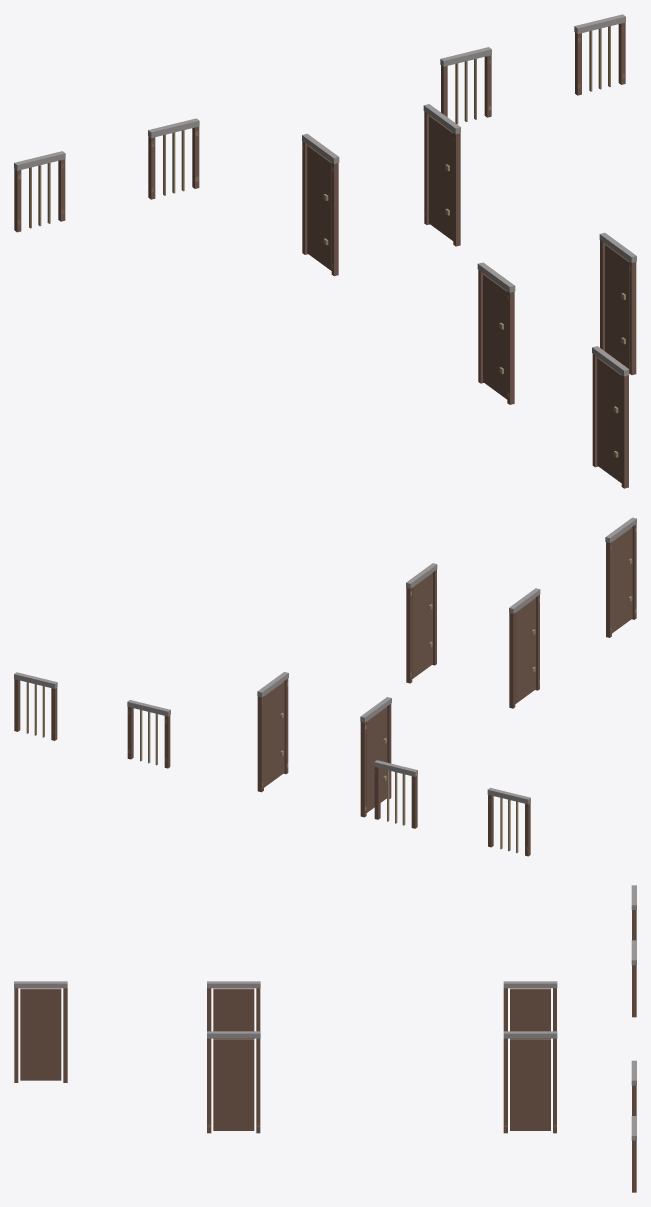
The model's file is door_window_floor_03.glb.
The picture shows the model from 3 angles, top to bottom: view 1: azimuth 30°, elevation 25°; view 2: azimuth 150°, elevation 25°; view 3: azimuth 270°, elevation 25°; orthographic projection. The views are drawn at different scales.
Visible parts, largest first — view 1: fe-f3-room1-door-0-door-leaf, fe-f3-room3-door-0-door-leaf, fe-f3-hall-door-4-door-leaf, fe-f3-room2-door-0-door-leaf, fe-f3-room4-door-0-door-leaf, fe-f3-room2-door-0-carved-jamb-1, fe-f3-hall-door-4-carved-jamb-1, fe-f3-room4-door-0-carved-jamb-1, fe-f3-room1-door-0-carved-jamb-1, fe-f3-room3-door-0-carved-jamb-1, fe-f3-room1-door-0-carved-jamb--1, fe-f3-hall-door-4-carved-jamb--1; view 2: fe-f3-hall-door-4-door-leaf, fe-f3-room2-door-0-door-leaf, fe-f3-room3-door-0-door-leaf, fe-f3-room4-door-0-door-leaf, fe-f3-room1-door-0-door-leaf, fe-f3-room3-door-0-carved-jamb--1, fe-f3-room2-door-0-carved-jamb--1, fe-f3-room4-door-0-carved-jamb--1, fe-f3-room1-door-0-carved-jamb--1, fe-f3-hall-door-4-carved-jamb--1; view 3: fe-f3-hall-door-4-door-leaf, fe-f3-room4-door-0-door-leaf, fe-f3-room2-door-0-door-leaf, fe-f3-room3-door-0-door-leaf, fe-f3-room1-door-0-door-leaf, fe-f3-room2-door-0-carved-jamb-1, fe-f3-room4-door-0-carved-jamb--1, fe-f3-room4-door-0-carved-jamb-1, fe-f3-hall-door-4-carved-jamb--1, fe-f3-hall-door-4-carved-jamb-1, fe-f3-room2-door-0-header, fe-f3-room1-door-0-header.
Boxes of the visible parts, x1=… form: fe-f3-room1-door-0-door-leaf: x1=307, y1=145, x2=331, y2=270; fe-f3-room3-door-0-door-leaf: x1=483, y1=274, x2=507, y2=399; fe-f3-hall-door-4-door-leaf: x1=597, y1=357, x2=621, y2=482; fe-f3-room2-door-0-door-leaf: x1=429, y1=115, x2=453, y2=240; fe-f3-room4-door-0-door-leaf: x1=605, y1=244, x2=629, y2=368; fe-f3-room2-door-0-carved-jamb-1: x1=453, y1=133, x2=460, y2=246; fe-f3-hall-door-4-carved-jamb-1: x1=621, y1=375, x2=628, y2=488; fe-f3-room4-door-0-carved-jamb-1: x1=629, y1=262, x2=636, y2=374; fe-f3-room1-door-0-carved-jamb-1: x1=331, y1=163, x2=338, y2=276; fe-f3-room3-door-0-carved-jamb-1: x1=507, y1=291, x2=514, y2=404; fe-f3-room1-door-0-carved-jamb--1: x1=302, y1=141, x2=307, y2=254; fe-f3-hall-door-4-carved-jamb--1: x1=592, y1=354, x2=597, y2=467; fe-f3-hall-door-4-door-leaf: x1=612, y1=527, x2=632, y2=633; fe-f3-room2-door-0-door-leaf: x1=264, y1=681, x2=284, y2=787; fe-f3-room3-door-0-door-leaf: x1=515, y1=598, x2=535, y2=703; fe-f3-room4-door-0-door-leaf: x1=412, y1=573, x2=432, y2=678; fe-f3-room1-door-0-door-leaf: x1=366, y1=707, x2=387, y2=812; fe-f3-room3-door-0-carved-jamb--1: x1=509, y1=613, x2=515, y2=708; fe-f3-room2-door-0-carved-jamb--1: x1=257, y1=696, x2=263, y2=792; fe-f3-room4-door-0-carved-jamb--1: x1=406, y1=588, x2=412, y2=683; fe-f3-room1-door-0-carved-jamb--1: x1=360, y1=721, x2=366, y2=817; fe-f3-hall-door-4-carved-jamb--1: x1=606, y1=542, x2=611, y2=637; fe-f3-hall-door-4-door-leaf: x1=20, y1=988, x2=61, y2=1080; fe-f3-room4-door-0-door-leaf: x1=213, y1=1039, x2=254, y2=1130; fe-f3-room2-door-0-door-leaf: x1=510, y1=1039, x2=550, y2=1130; fe-f3-room3-door-0-door-leaf: x1=213, y1=988, x2=254, y2=1038; fe-f3-room1-door-0-door-leaf: x1=510, y1=988, x2=550, y2=1038; fe-f3-room2-door-0-carved-jamb-1: x1=503, y1=1038, x2=507, y2=1133; fe-f3-room4-door-0-carved-jamb--1: x1=256, y1=1038, x2=260, y2=1133; fe-f3-room4-door-0-carved-jamb-1: x1=207, y1=1038, x2=211, y2=1133; fe-f3-hall-door-4-carved-jamb--1: x1=63, y1=988, x2=67, y2=1082; fe-f3-hall-door-4-carved-jamb-1: x1=14, y1=988, x2=18, y2=1082; fe-f3-room2-door-0-header: x1=503, y1=1031, x2=557, y2=1038; fe-f3-room1-door-0-header: x1=503, y1=981, x2=557, y2=988.
Size of the model in its own units: 12.19 by 2.26 by 12.8.
